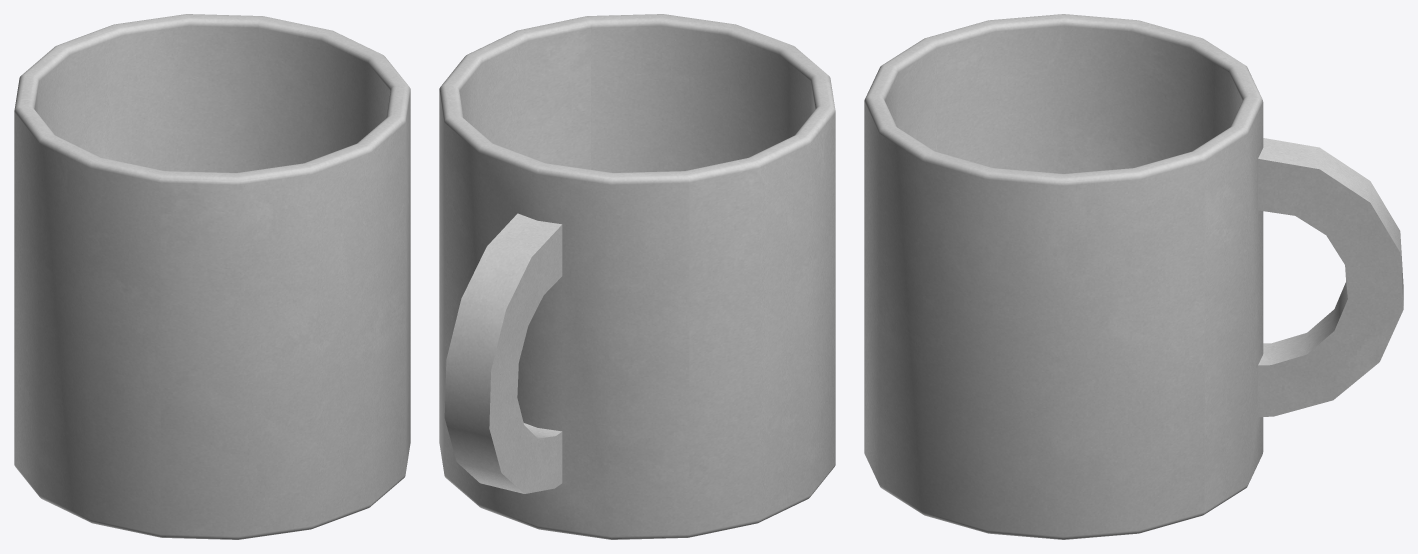
Rendered from cup.fbx.
The picture shows the model from 3 angles, left to right: view 1: azimuth 30°, elevation 25°; view 2: azimuth 150°, elevation 25°; view 3: azimuth 270°, elevation 25°; orthographic projection.
Visible parts, largest first — view 1: cup; view 2: cup; view 3: cup.
Boxes of the visible parts, x1,y1,x2,y2 form: cup: (14, 14, 410, 539); cup: (439, 14, 835, 539); cup: (864, 14, 1403, 539).
Size of the model in its own units: 10 by 10 by 13.52.
